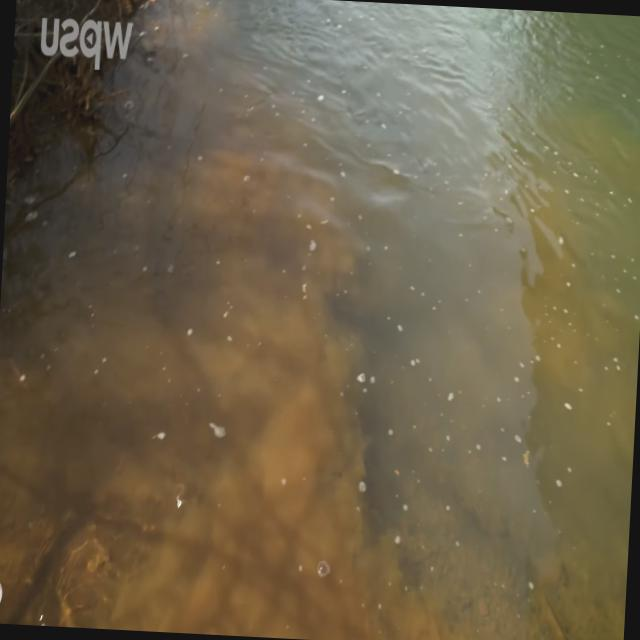yellow_boy: (0, 107, 503, 640)
